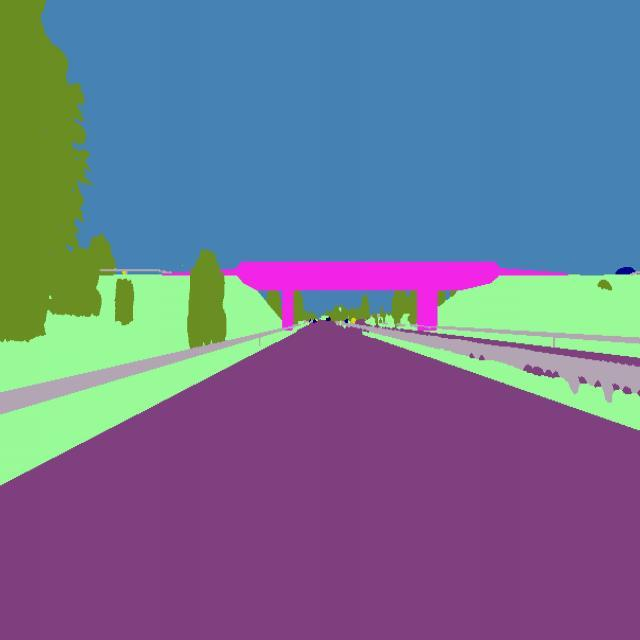safe: (342, 316, 352, 327), (308, 316, 318, 327), (323, 316, 333, 323)
